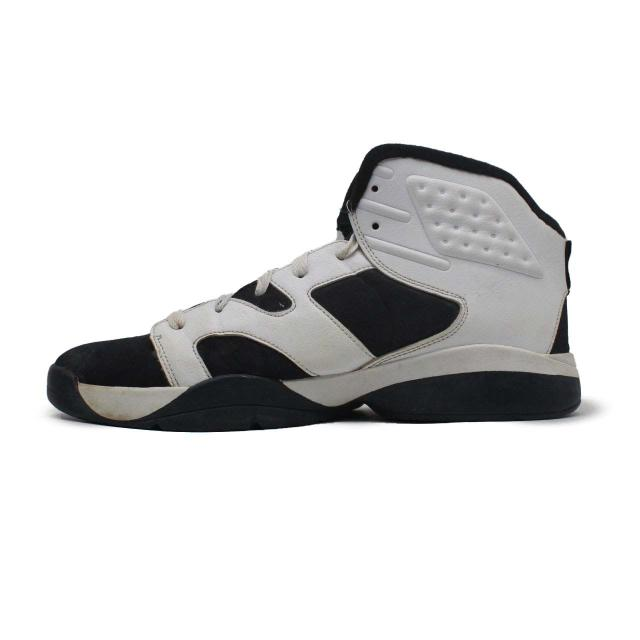heel: (522, 192, 573, 357)
midsole: (51, 345, 582, 427)
uppersole: (51, 145, 544, 387)
